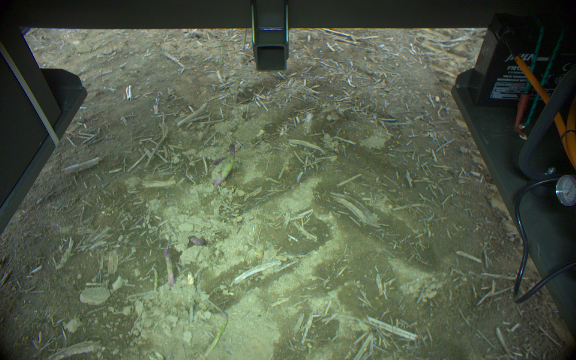aspa: (199, 310, 231, 360), (213, 140, 238, 188), (161, 247, 176, 288), (186, 234, 207, 248)
